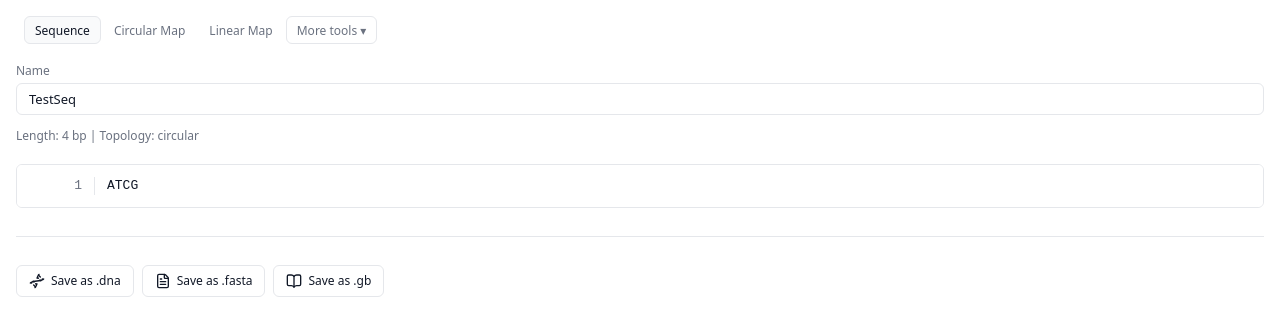
Scenario: SequenceViewer › closes context menu when pressing Escape or clicking outside
Right-click the element with class "seq-window" at [640, 186], box [16, 164, 1264, 208]
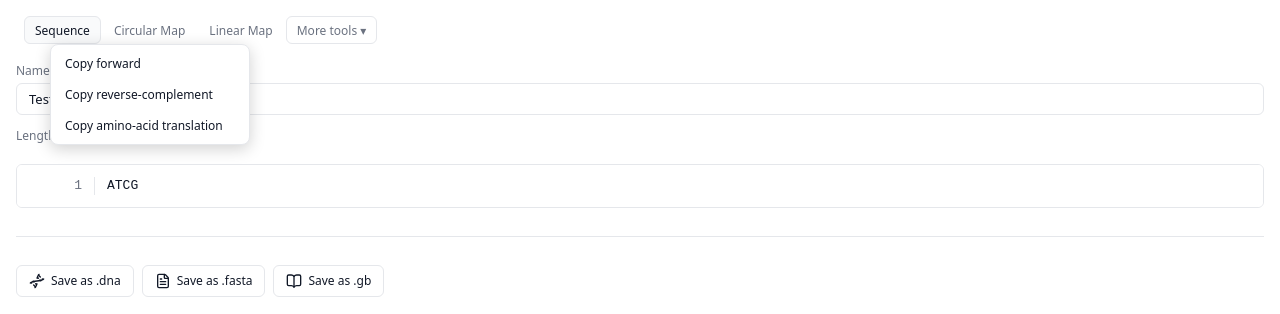
expect the menu named "sequence context menu" is shown: met, box [50, 44, 250, 145]
Press Escape
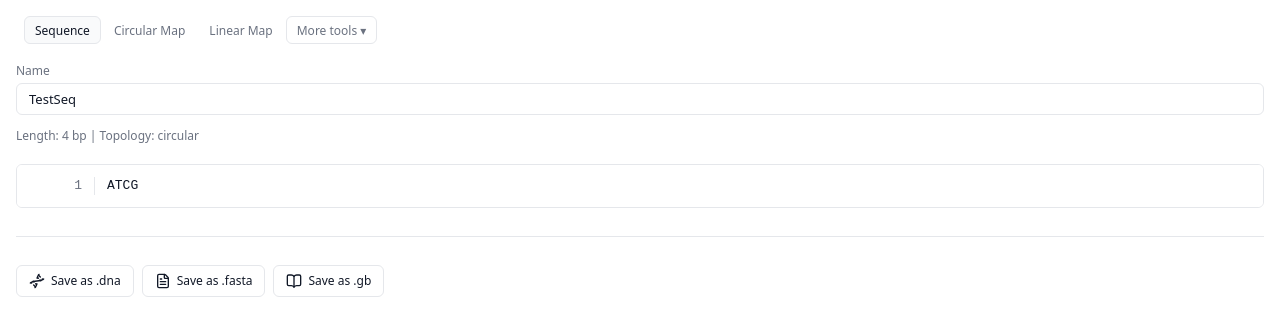
expect the menu "sequence context menu" is gone: met
